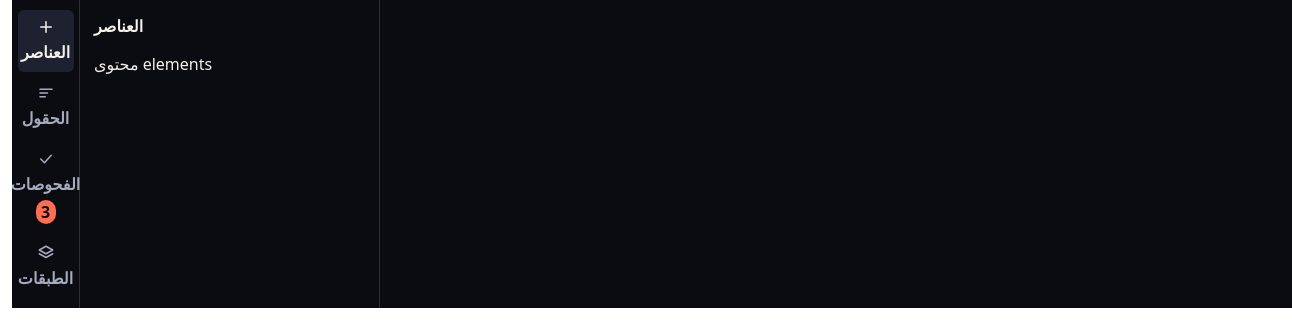
Test: ui/editor-rail — inside the scope › selects on a single tap, and the panel swaps
Click the tab "الحقول": click(46, 107) [18,76,74,138]
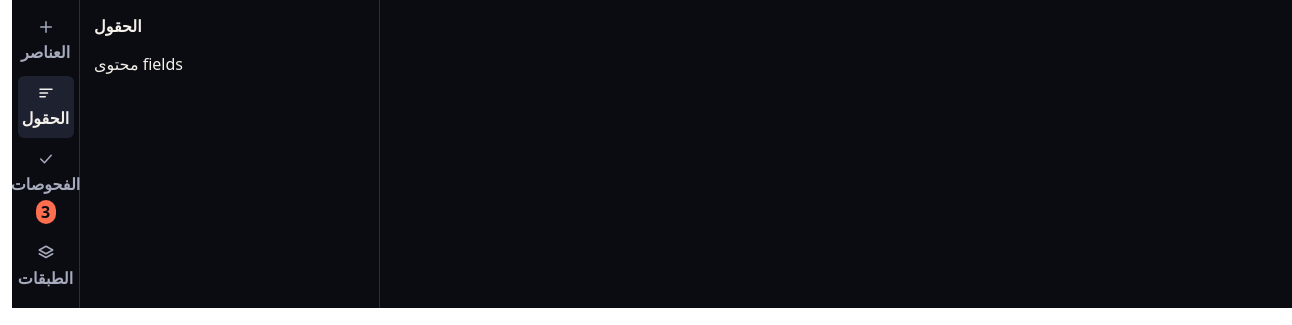
Expected: the panel shows "محتوى fields", [80,0,380,308]
